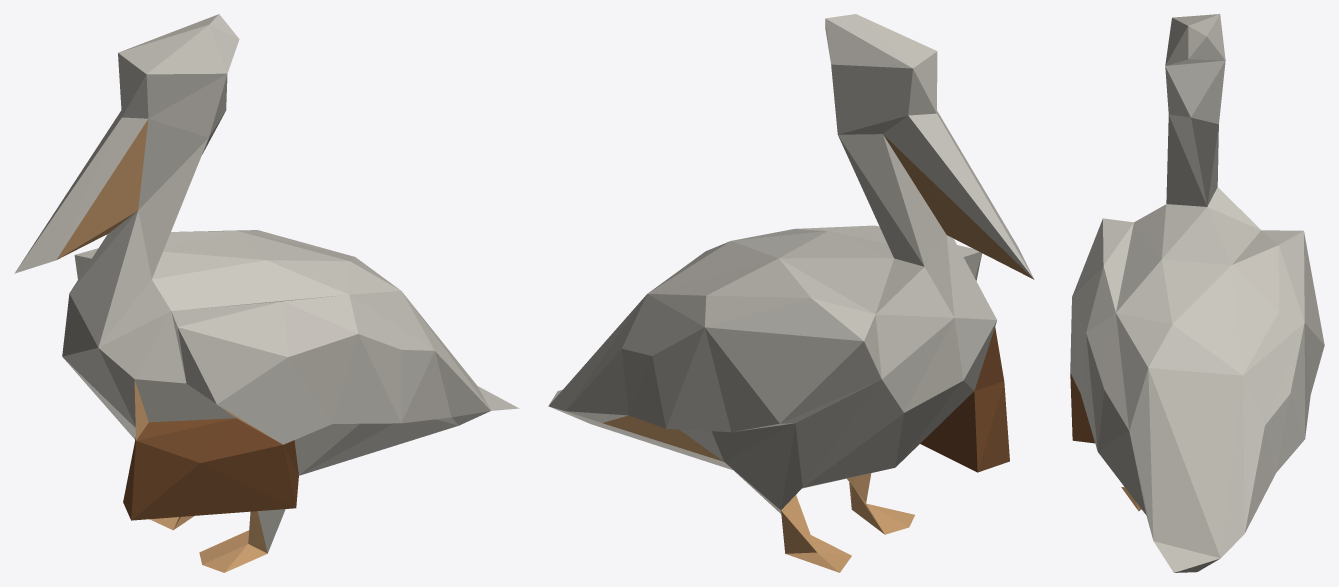
The picture shows the model from 3 angles, left to right: view 1: azimuth 30°, elevation 25°; view 2: azimuth 150°, elevation 25°; view 3: azimuth 270°, elevation 25°; orthographic projection. The views are drawn at different scales.
Parts seen in each view (by area): view 1: lion-200; view 2: lion-200; view 3: lion-200.
Part boxes in pixels (<box>): lion-200: <box>14,14,519,572</box>; lion-200: <box>548,14,1034,572</box>; lion-200: <box>1070,14,1324,572</box>.
Size of the model in its own units: 0.9763 by 0.9877 by 0.4962.
